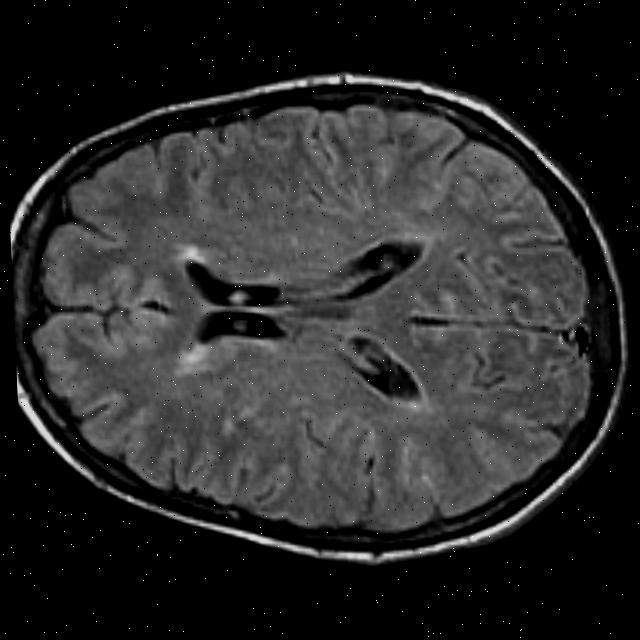NoTumor: (3, 51, 640, 573)
